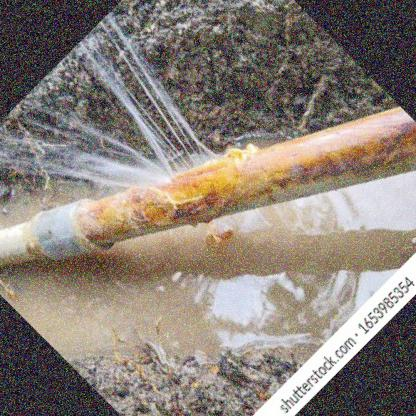burst: (92, 146, 243, 199)
